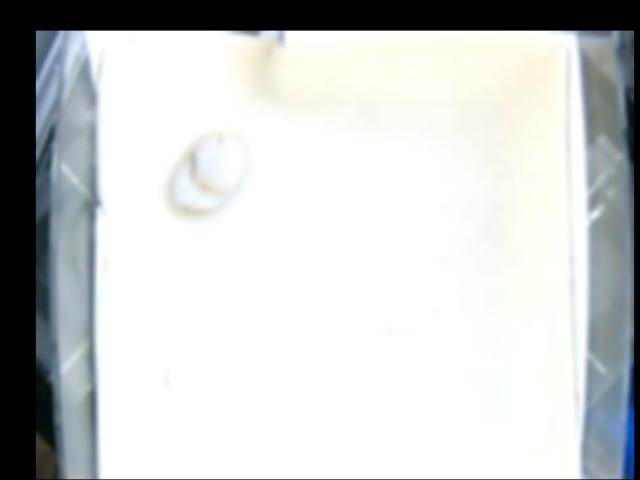Pebble: (169, 133, 243, 211)
